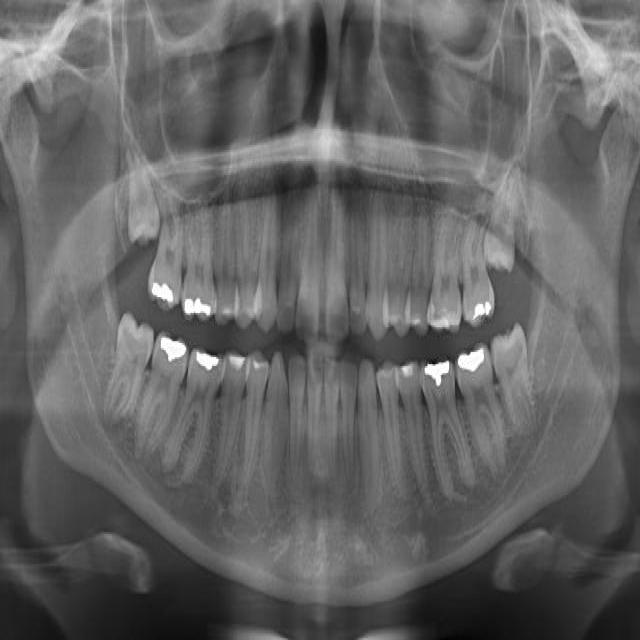dolgu: (155, 321, 191, 389), (188, 335, 226, 385), (148, 262, 182, 314), (421, 344, 454, 394), (460, 288, 498, 328), (450, 342, 492, 378), (180, 276, 213, 320), (222, 338, 248, 384)
